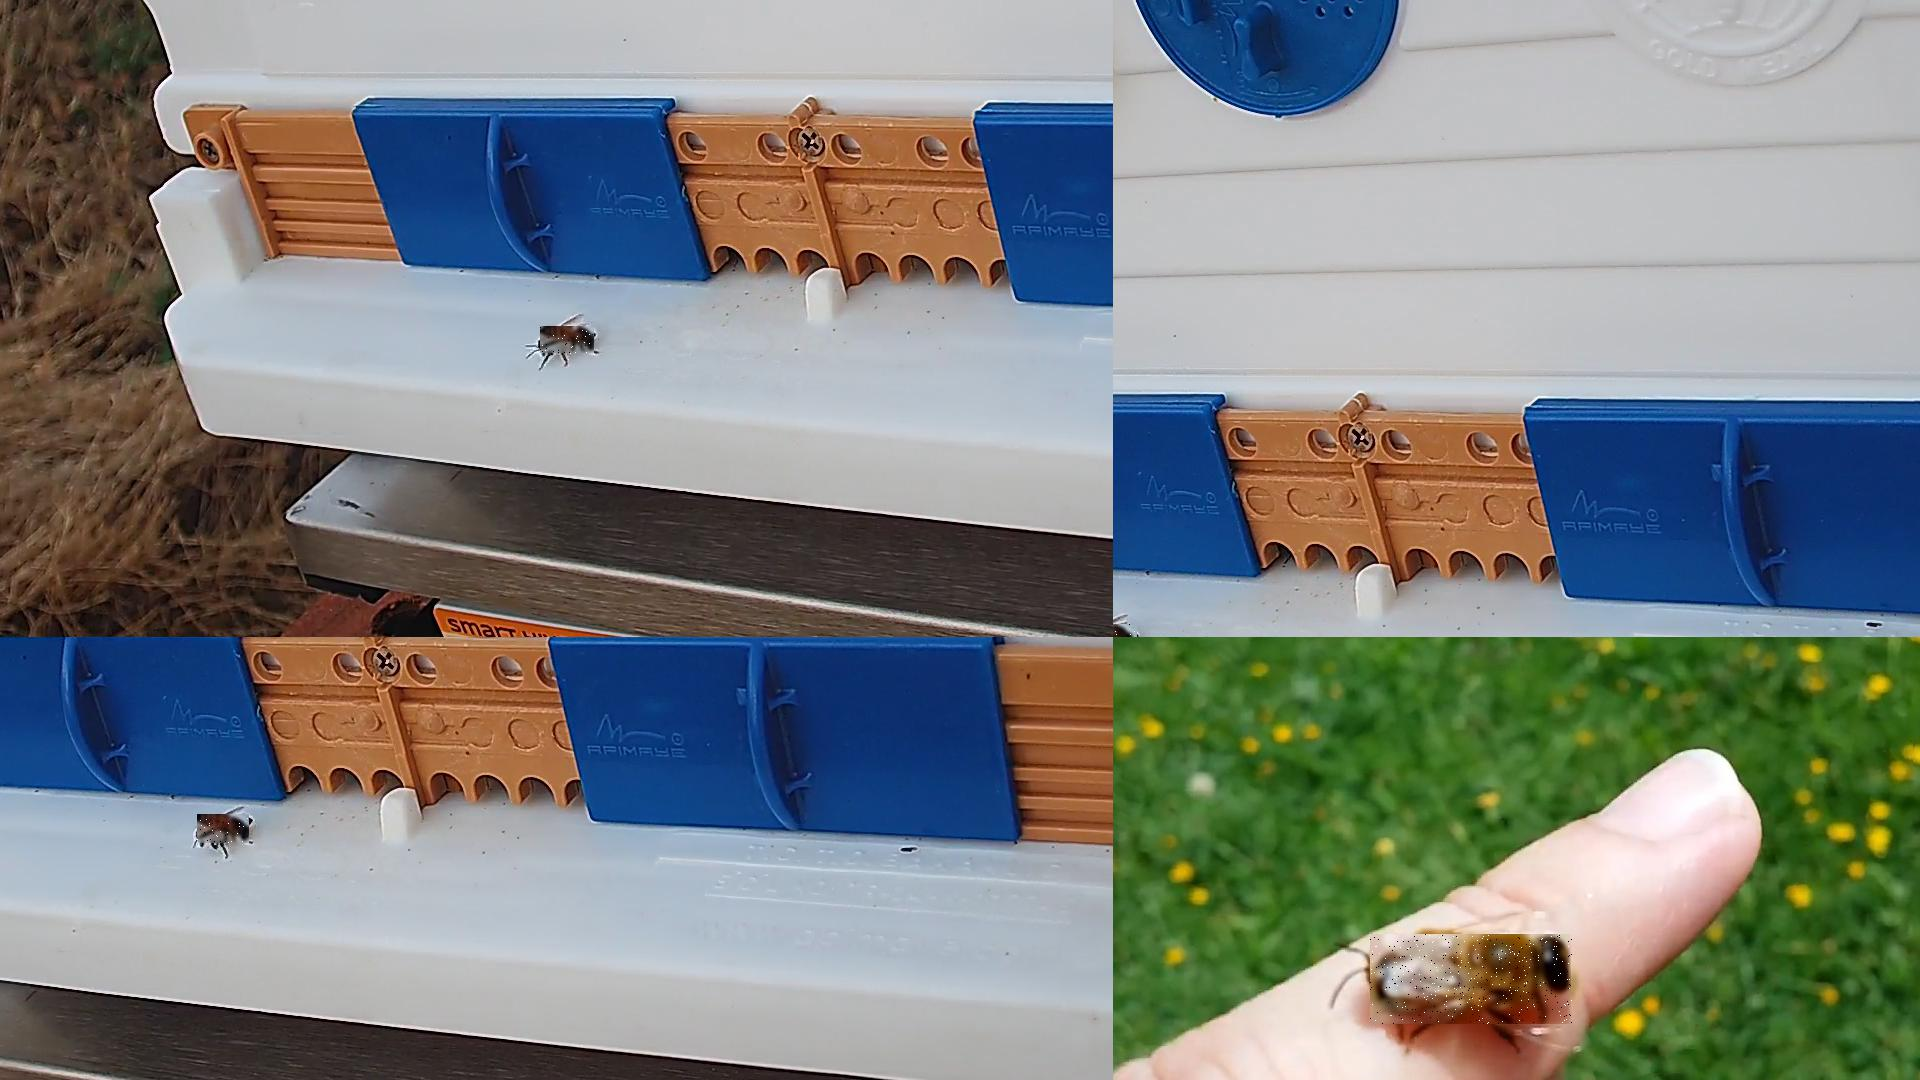bee: (197, 815, 250, 846), (540, 327, 595, 356)
drone: (1371, 934, 1574, 1025)
